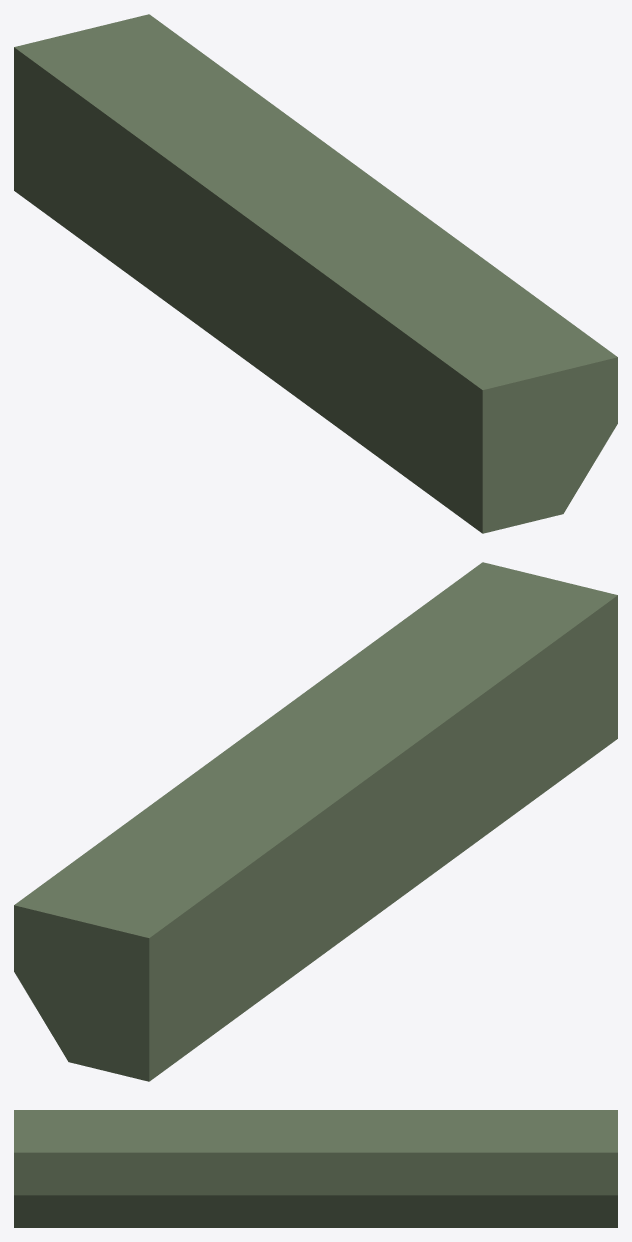
Rendered from Sm_roofTopBase_03.fbx.
3 views of the same model, one above another, from view 1: azimuth 30°, elevation 25°; view 2: azimuth 150°, elevation 25°; view 3: azimuth 270°, elevation 25° (orthographic). The views are drawn at different scales.
Parts seen in each view (by area): view 1: Sm_roofTopBase_03; view 2: Sm_roofTopBase_03; view 3: Sm_roofTopBase_03.
Boxes of the visible parts, bbox=[...] form: Sm_roofTopBase_03: bbox=[14, 14, 617, 533]; Sm_roofTopBase_03: bbox=[14, 562, 617, 1081]; Sm_roofTopBase_03: bbox=[14, 1110, 617, 1227].
Bounding box in the file's own units: 0.5 × 0.507 × 3.
